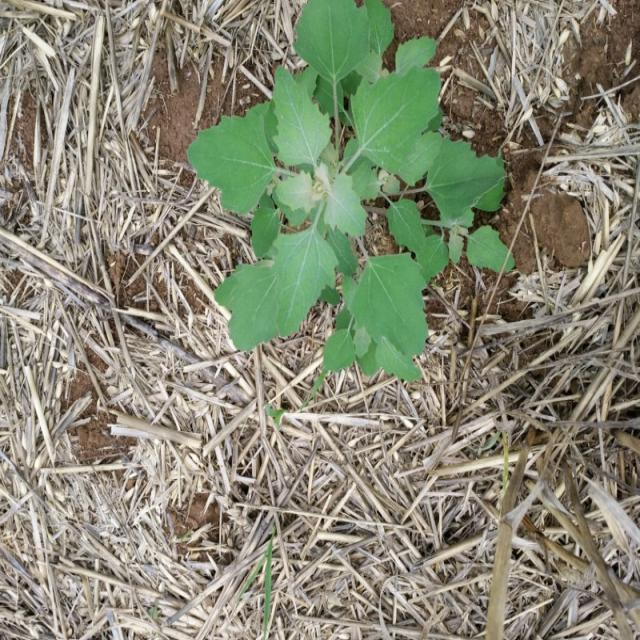ca: (186, 1, 516, 390)
